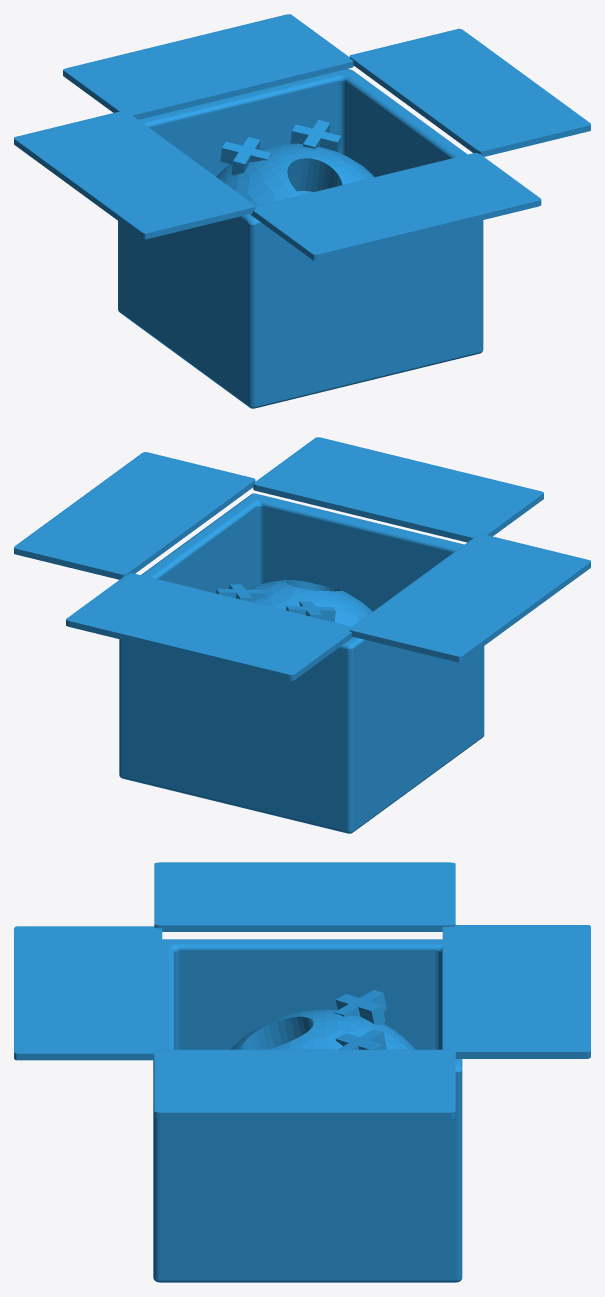
Rendered from dead_head.glb.
The picture shows the model from 3 angles, top to bottom: view 1: azimuth 30°, elevation 25°; view 2: azimuth 150°, elevation 25°; view 3: azimuth 270°, elevation 25°; orthographic projection. The views are drawn at different scales.
Visible parts, largest first — view 1: Cube.002, Cube.004, Cube.005, Cube.003, Cube.001, Cube; view 2: Cube.002, Cube.005, Cube.004, Cube.003, Cube.001, Cube; view 3: Cube.002, Cube.001, Cube.003, Cube.004, Cube.005, Cube.
Boxes of the visible parts, x1,y1,x2,y2 form: Cube.002: (118,69,483,408); Cube.004: (250,152,541,260); Cube.005: (63,14,353,119); Cube.003: (14,110,255,239); Cube.001: (349,28,590,156); Cube: (216,119,374,206); Cube.002: (119,493,484,833); Cube.005: (66,573,352,680); Cube.004: (253,437,543,542); Cube.003: (349,534,590,662); Cube.001: (14,452,255,579); Cube: (216,580,372,626); Cube.002: (153,939,462,1282); Cube.001: (154,1049,455,1119); Cube.003: (154,862,455,931); Cube.004: (14,926,162,1060); Cube.005: (442,925,590,1058); Cube: (231,990,415,1049).
Bounding box in the file's own units: 4.07 × 1.76 × 3.97.
